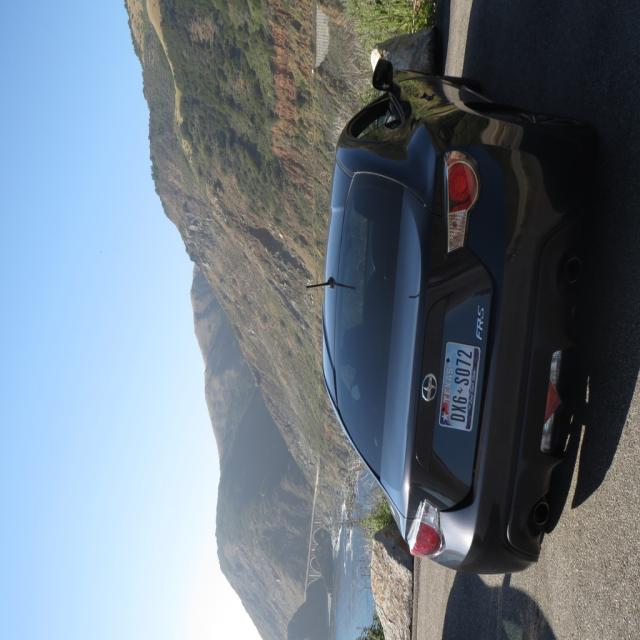car: (306, 57, 593, 583)
